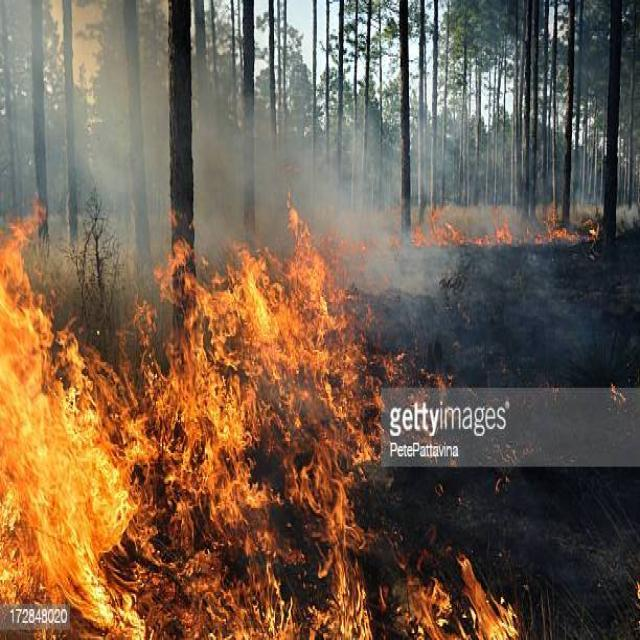Fire: (0, 228, 360, 640), (365, 546, 518, 638), (407, 196, 601, 250)
Smoke: (195, 47, 398, 225), (3, 0, 170, 215), (370, 256, 602, 360)
